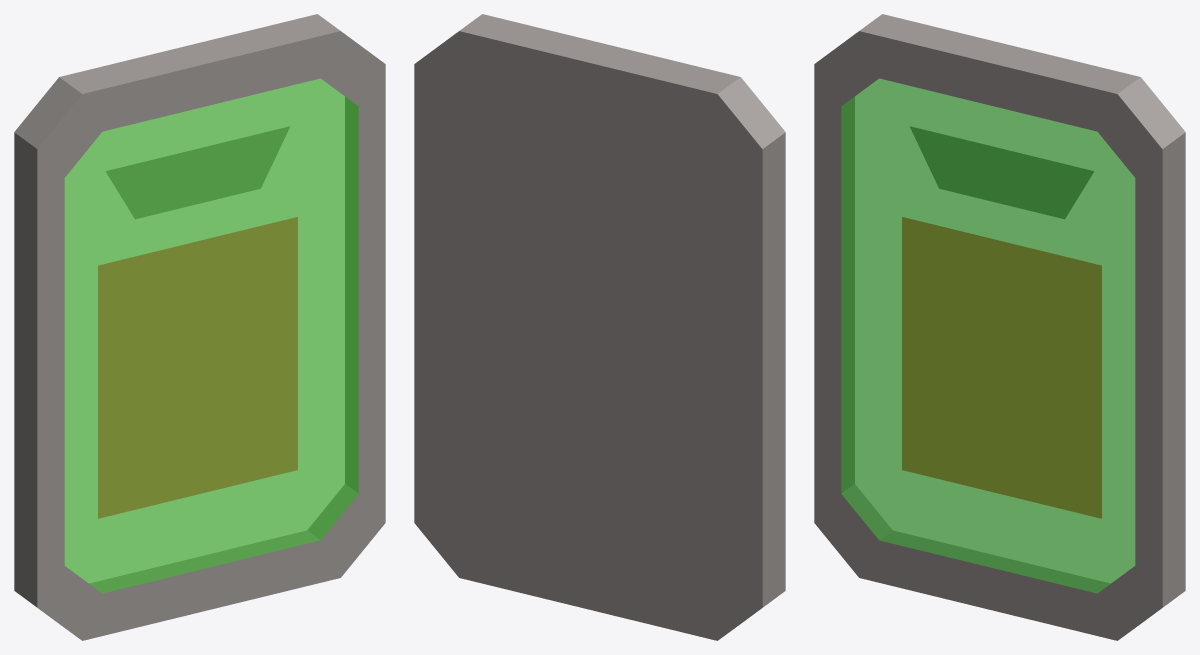
The model's file is scifi-scifi-banner-small-vertical.glb.
The picture shows the model from 3 angles, left to right: view 1: azimuth 30°, elevation 25°; view 2: azimuth 150°, elevation 25°; view 3: azimuth 330°, elevation 25°; orthographic projection.
Parts seen in each view (by area): view 1: scifi-banner-small-vertical; view 2: scifi-banner-small-vertical; view 3: scifi-banner-small-vertical.
Part boxes in pixels (x1=…): scifi-banner-small-vertical: x1=14, y1=14, x2=385, y2=640; scifi-banner-small-vertical: x1=414, y1=14, x2=785, y2=640; scifi-banner-small-vertical: x1=814, y1=14, x2=1185, y2=640.
Size of the model in its own units: 0.7709 by 1.16 by 0.0893.
